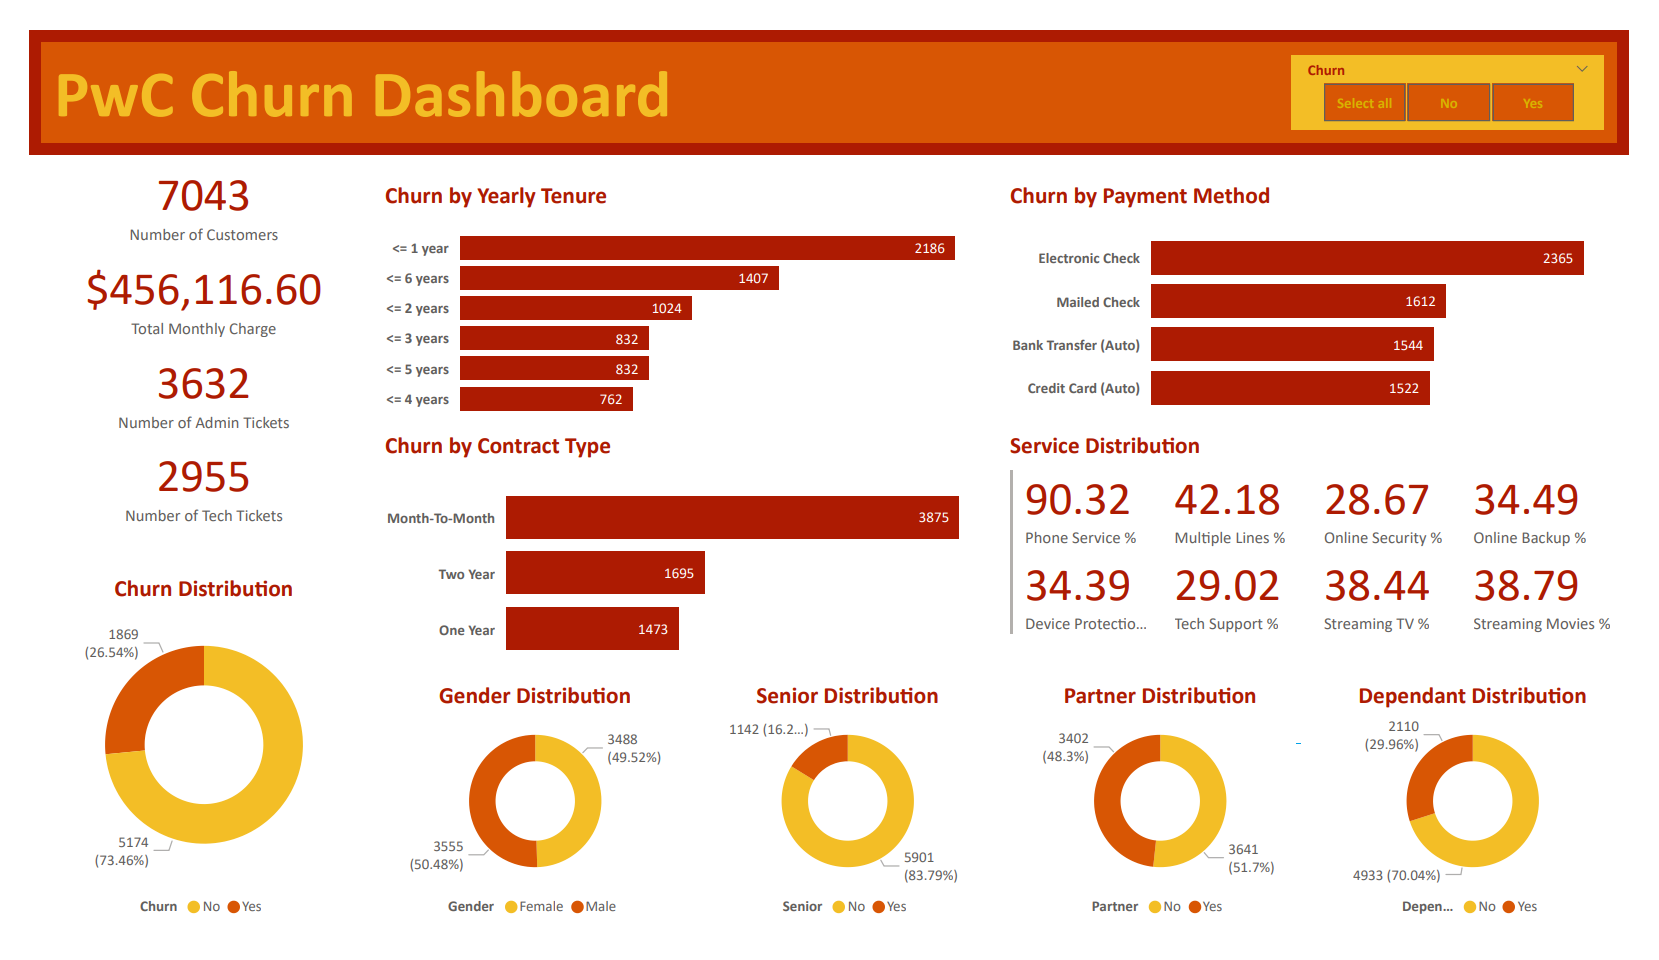

This screenshot's page, from the dashboard's own definition file:
{"tool":"powerbi","page":{"name":"Page 1","canvas":[1280,720],"ordinal":0},"visuals":[{"type":"card","fields":{"Values":["CountNonNull(Clean.customerID)"]},"box":[0,100,280,75.5],"z":0},{"type":"shape","box":[0,0,1280,100.2],"z":1000},{"type":"shape","box":[10,10,1260,80],"z":2000},{"type":"donutChart","title":"Churn Distribution","fields":{"Y":["CountNonNull(Clean.Churn)"],"Series":["Clean.Churn"]},"box":[0,435,280,285],"z":3000},{"type":"card","fields":{"Values":["Sum(Clean.MonthlyCharges)"]},"box":[0,175,280,75.5],"z":4000},{"type":"card","fields":{"Values":["Sum(Clean.numAdminTickets)"]},"box":[0,250,280,75.5],"z":5000},{"type":"card","fields":{"Values":["Sum(Clean.numTechTickets)"]},"box":[0,325,280,75.5],"z":6000},{"type":"barChart","title":"Churn by Yearly Tenure","fields":{"Category":["Clean.Yearly Tenure"],"Y":["CountNonNull(Clean.Yearly Tenure)"]},"box":[280,120,500,200],"z":7000},{"type":"donutChart","title":"Gender Distribution","fields":{"Y":["CountNonNull(Clean.gender)"],"Series":["Clean.gender"]},"box":[280,520,250,200],"z":8000},{"type":"barChart","title":"Churn by Payment Method","fields":{"Category":["Clean.PaymentMethod"],"Y":["CountNonNull(Clean.PaymentMethod)"]},"box":[780,120,500.3,200],"z":9000},{"type":"barChart","title":"Churn by Contract Type","fields":{"Category":["Clean.Contract"],"Y":["CountNonNull(Clean.Contract)"]},"box":[280,320,500,201],"z":10000},{"type":"donutChart","title":"Dependant Distribution","fields":{"Series":["Clean.Dependents"],"Y":["CountNonNull(Clean.Dependents)"]},"box":[1030,520.3,250,200],"z":11000},{"type":"donutChart","title":"Partner Distribution","fields":{"Y":["CountNonNull(Clean.Partner)"],"Series":["Clean.Partner"]},"box":[780,520,250,200],"z":12000},{"type":"donutChart","title":"Senior Distribution","fields":{"Y":["CountNonNull(Clean.SeniorCitizen)"],"Series":["Clean.SeniorCitizen"]},"box":[530.2,520,250,200],"z":13000},{"type":"slicer","fields":{"Values":["Clean.Churn"]},"box":[1010,20,250,60],"z":14000},{"type":"multiRowCard","title":"Service Distribution","fields":{"Values":["Clean.Phone Service %","Clean.Multiple Lines %","Clean.Online Security %","Clean.Online Backup %","Clean.Device Protection %","Clean.Tech Support %","Clean.Streaming TV %","Clean.Streaming Movies %"]},"box":[780,320,500,200],"z":15000}]}

Visuals, with their boxes in screenshot pixels (x1, y1, x2, y2), scaled from the page's 1280x720 canvas onto the 1659x960 screenshot:
card - CountNonNull(Clean.customerID): {"left": 0, "top": 133, "right": 363, "bottom": 234}
shape: {"left": 0, "top": 0, "right": 1658, "bottom": 134}
shape: {"left": 13, "top": 13, "right": 1646, "bottom": 120}
"Churn Distribution" donutChart: {"left": 0, "top": 580, "right": 363, "bottom": 959}
card - Sum(Clean.MonthlyCharges): {"left": 0, "top": 233, "right": 363, "bottom": 334}
card - Sum(Clean.numAdminTickets): {"left": 0, "top": 333, "right": 363, "bottom": 434}
card - Sum(Clean.numTechTickets): {"left": 0, "top": 433, "right": 363, "bottom": 534}
"Churn by Yearly Tenure" barChart: {"left": 363, "top": 160, "right": 1011, "bottom": 427}
"Gender Distribution" donutChart: {"left": 363, "top": 693, "right": 687, "bottom": 959}
"Churn by Payment Method" barChart: {"left": 1011, "top": 160, "right": 1658, "bottom": 427}
"Churn by Contract Type" barChart: {"left": 363, "top": 427, "right": 1011, "bottom": 695}
"Dependant Distribution" donutChart: {"left": 1335, "top": 694, "right": 1658, "bottom": 959}
"Partner Distribution" donutChart: {"left": 1011, "top": 693, "right": 1335, "bottom": 959}
"Senior Distribution" donutChart: {"left": 687, "top": 693, "right": 1011, "bottom": 959}
slicer - Clean.Churn: {"left": 1309, "top": 27, "right": 1633, "bottom": 107}
"Service Distribution" multiRowCard: {"left": 1011, "top": 427, "right": 1658, "bottom": 693}
